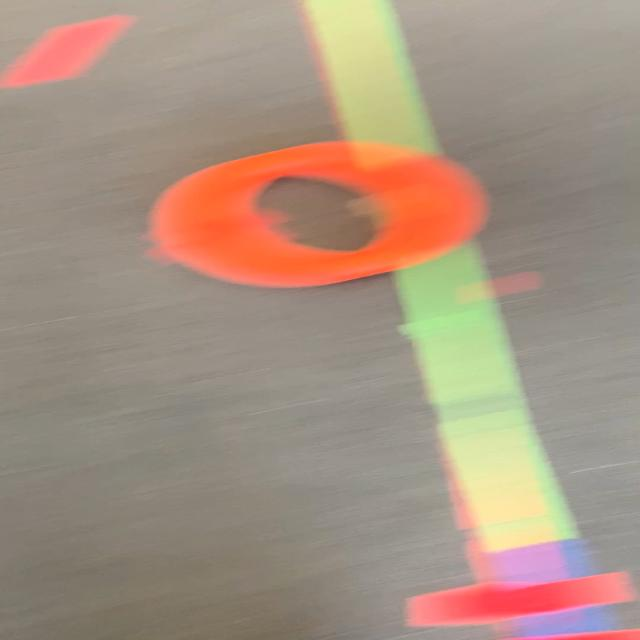notes: (154, 140, 482, 289)
